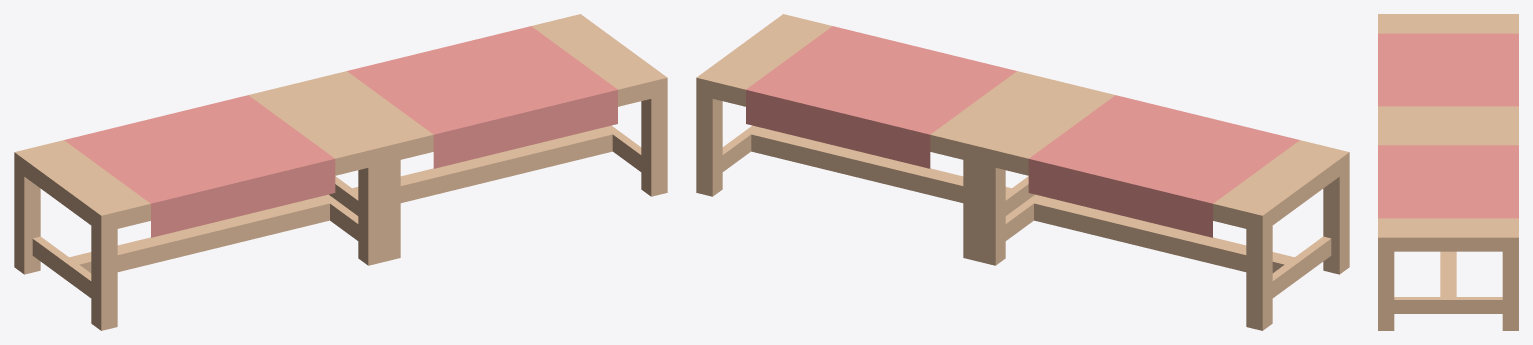
File: table_banquet.glb
3 renders of one model, left to right at view 1: azimuth 30°, elevation 25°; view 2: azimuth 150°, elevation 25°; view 3: azimuth 270°, elevation 25°, orthographic. The views are drawn at different scales.
Parts seen in each view (by area): view 1: tableCloth(Clone) (×2); view 2: tableCloth(Clone) (×2); view 3: tableCloth(Clone) (×2).
Part boxes in pixels (x1,y1,x2,y2): tableCloth(Clone) (×2): [14, 14, 667, 330]; tableCloth(Clone) (×2): [696, 14, 1349, 330]; tableCloth(Clone) (×2): [1378, 14, 1518, 330].
Bounding box in the file's own units: 3.45 × 0.6698 × 0.9171.
